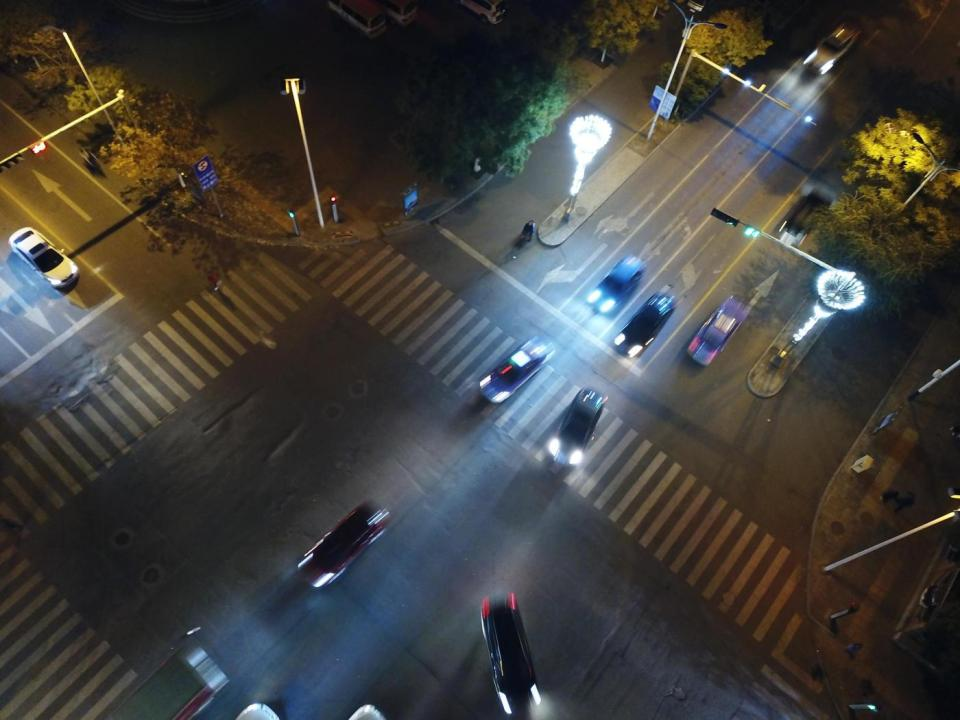car: (479, 590, 541, 716), (296, 502, 388, 586), (548, 387, 604, 469), (9, 226, 79, 290), (480, 339, 551, 402), (613, 292, 673, 359), (686, 298, 745, 366), (803, 18, 861, 77), (590, 256, 644, 315), (776, 188, 830, 247)
truck: (90, 642, 229, 720)
van: (323, 1, 388, 38), (458, 2, 512, 25)
